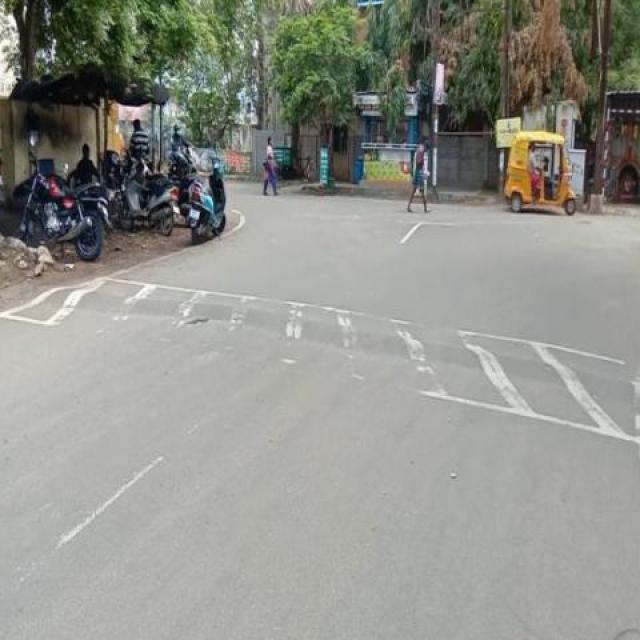Speed Bump: (39, 284, 638, 426)
